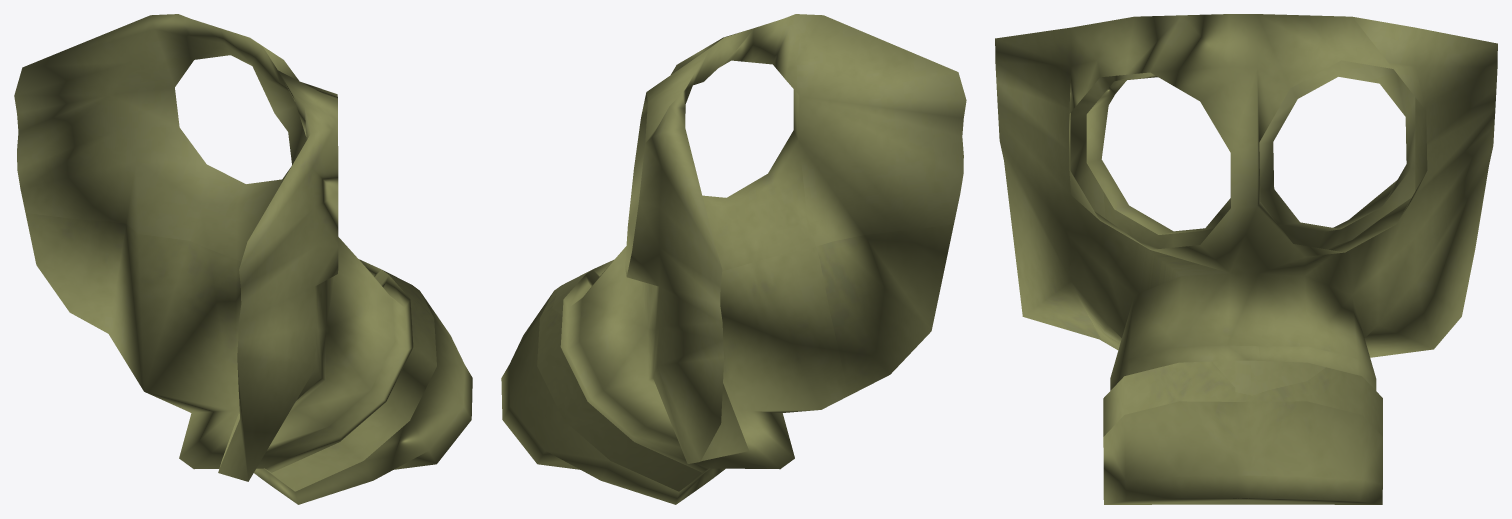
The model's file is Gas Mask Main.obj.
3 views of the same model, side by side, from view 1: azimuth 30°, elevation 25°; view 2: azimuth 150°, elevation 25°; view 3: azimuth 270°, elevation 25° (orthographic). The views are drawn at different scales.
Visible parts, largest first — view 1: Main_Frame_Cube.001; view 2: Main_Frame_Cube.001; view 3: Main_Frame_Cube.001.
Boxes of the visible parts, x1,y1,x2,y2 form: Main_Frame_Cube.001: [14, 14, 472, 504]; Main_Frame_Cube.001: [501, 14, 966, 504]; Main_Frame_Cube.001: [995, 14, 1497, 504].
Bounding box in the file's own units: 4.17 × 5.34 × 5.14.
